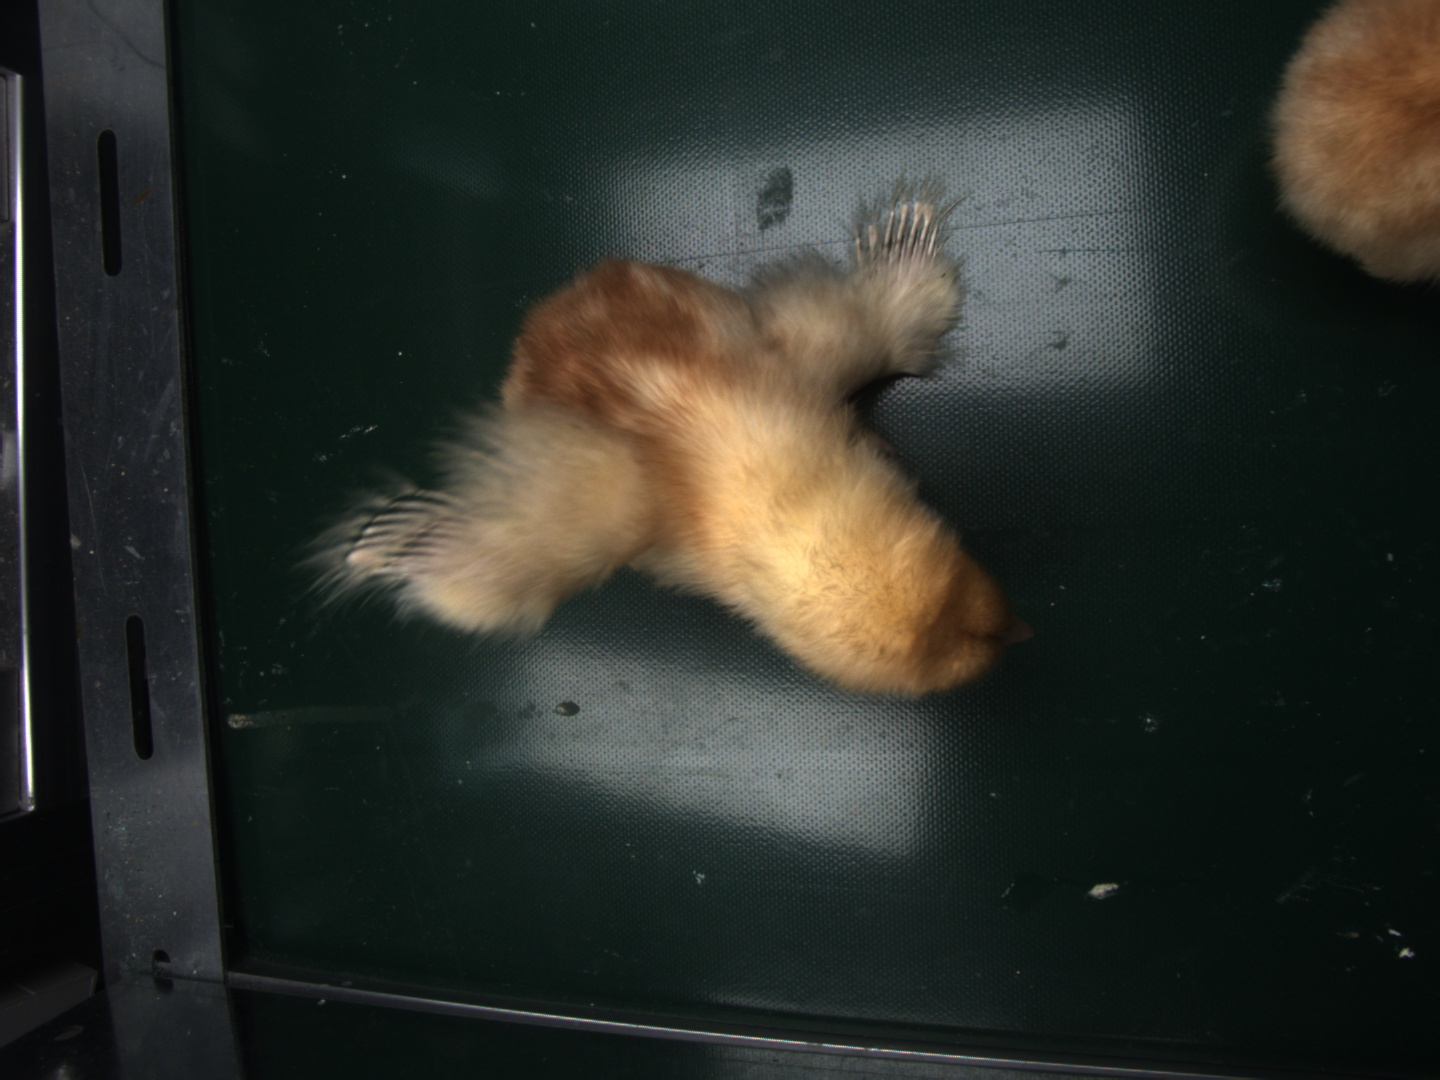female: (858, 197, 943, 268)
